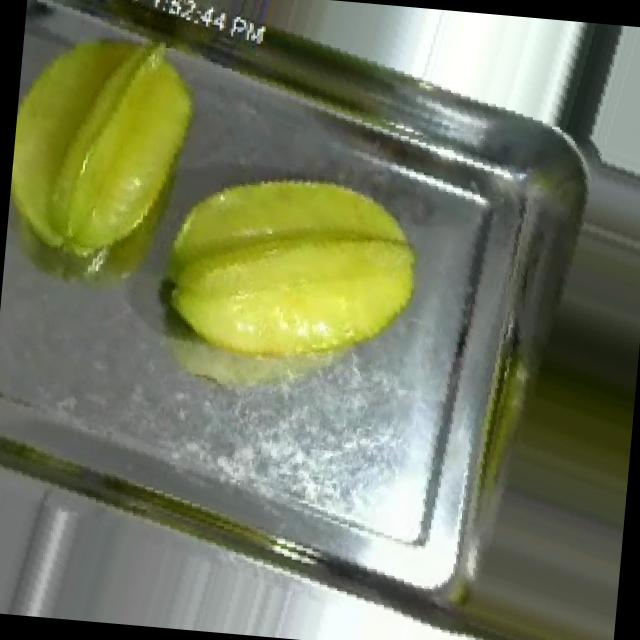fruit: (123, 116, 452, 422), (2, 0, 252, 304)
